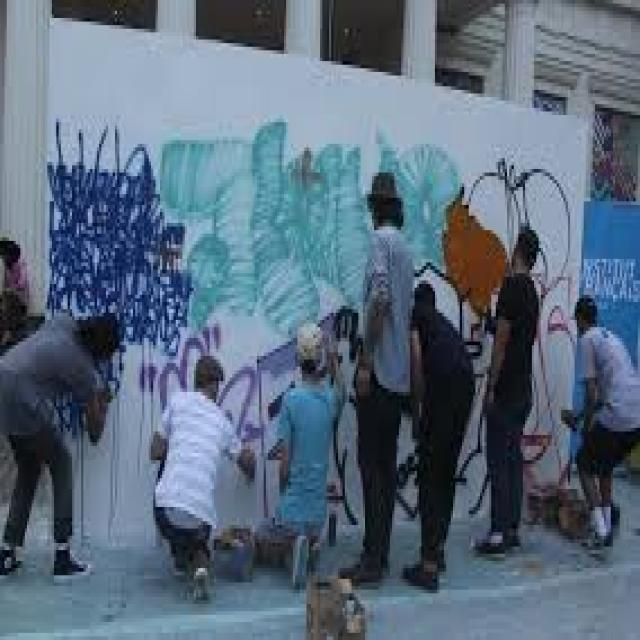-: (322, 160, 578, 524), (158, 117, 470, 330), (42, 119, 192, 432), (128, 320, 302, 452)
